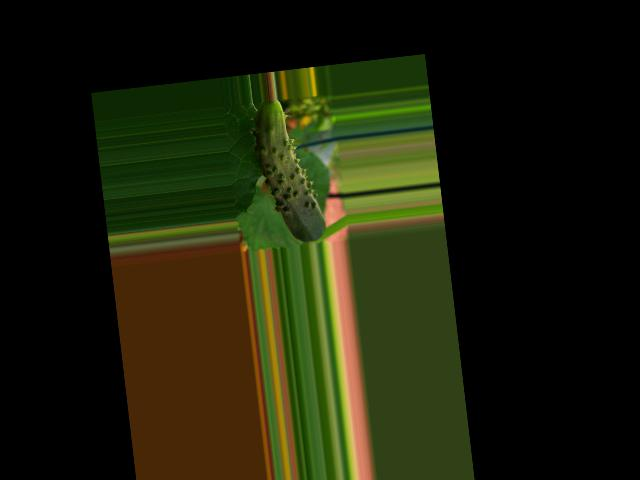cucumber: (249, 96, 327, 247)
